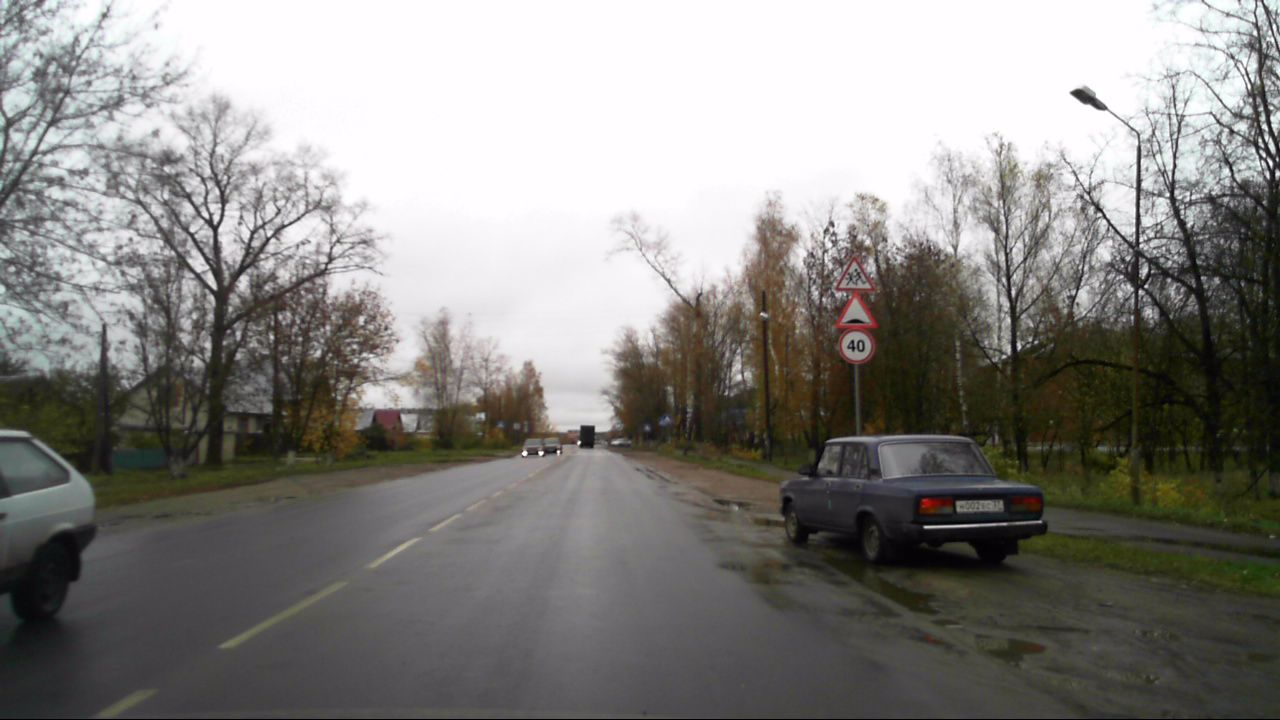speed_warning_40: (838, 328, 876, 364)
